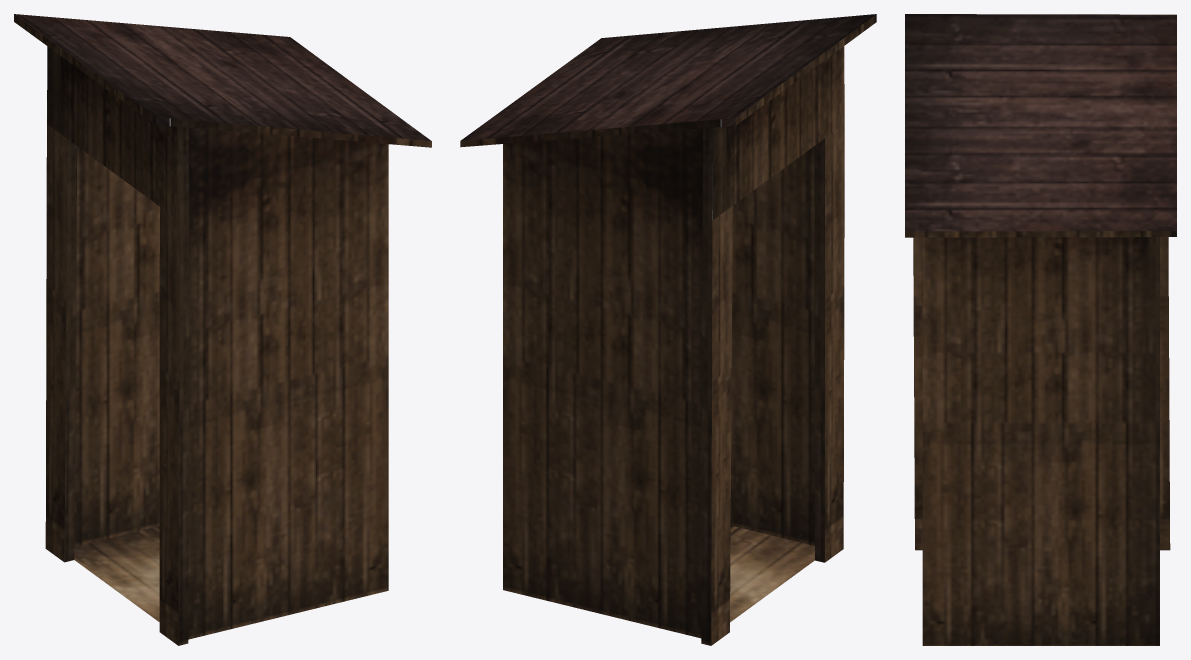
File: Toilet.fbx
3 views of the same model, side by side, from view 1: azimuth 30°, elevation 25°; view 2: azimuth 150°, elevation 25°; view 3: azimuth 270°, elevation 25° (orthographic). The views are drawn at different scales.
Parts seen in each view (by area): view 1: Toilet; view 2: Toilet; view 3: Toilet.
Part boxes in pixels (bbox=[...]): Toilet: bbox=[14, 14, 431, 645]; Toilet: bbox=[460, 14, 876, 645]; Toilet: bbox=[905, 14, 1176, 645].
Size of the model in its own units: 1.34 by 2.5 by 1.19.
1 material, 1 textured.
